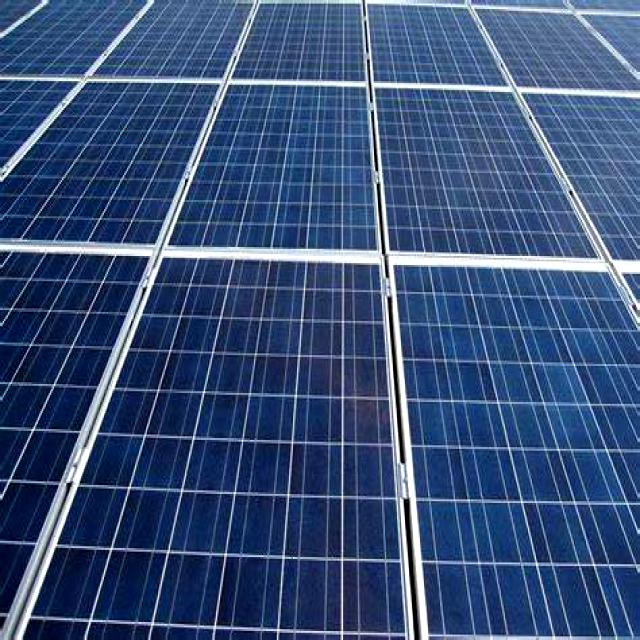crack: (0, 205, 452, 640), (377, 236, 640, 640), (140, 57, 442, 310), (356, 59, 618, 288), (13, 66, 231, 290), (519, 63, 640, 292), (474, 10, 640, 120), (360, 0, 526, 102)
